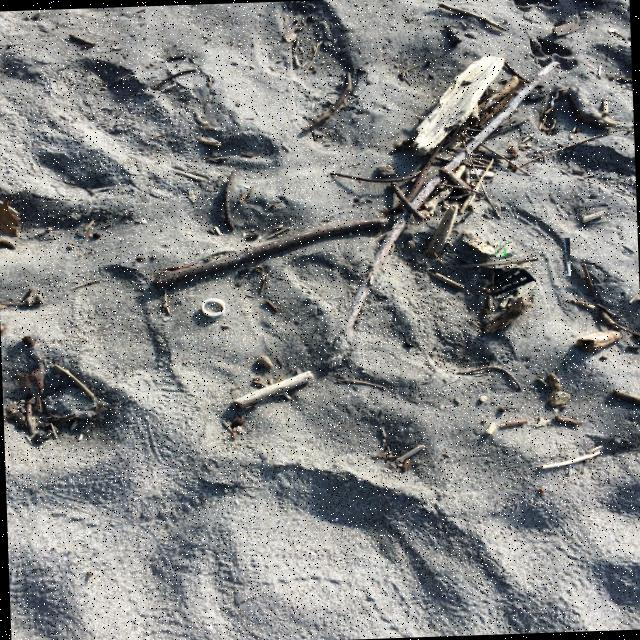Other plastic bottle: (494, 267, 535, 298), (564, 238, 571, 274), (496, 241, 511, 257)
Plastic bottle cap: (202, 298, 225, 317)
